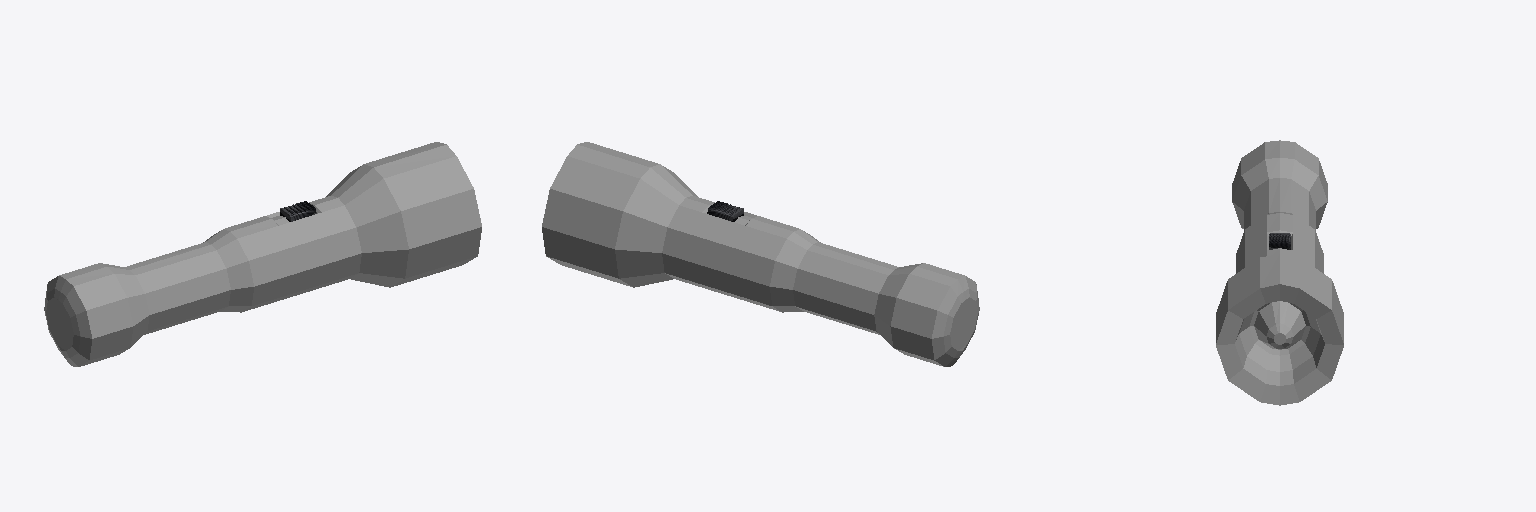
3 renders of one model, left to right at view 1: azimuth 30°, elevation 25°; view 2: azimuth 150°, elevation 25°; view 3: azimuth 270°, elevation 25°, orthographic.
Parts seen in each view (by area): view 1: Boddy_Icosphere.002; view 2: Boddy_Icosphere.002; view 3: Boddy_Icosphere.002.
Part boxes in pixels (x1,y1,x2,y2): Boddy_Icosphere.002: (44,142,481,366); Boddy_Icosphere.002: (542,142,979,366); Boddy_Icosphere.002: (1216,140,1343,405).
Size of the model in its own units: 13.65 by 4.29 by 3.85.
Materials: 4 (1 with a texture image).